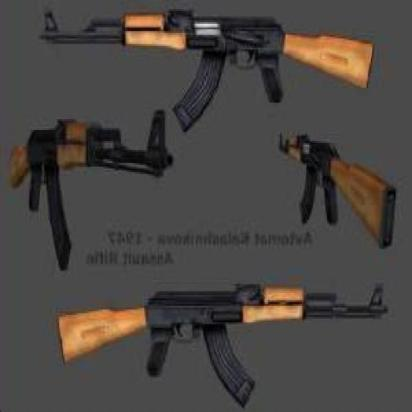Gun: (44, 278, 390, 412), (36, 0, 386, 126), (7, 115, 170, 266), (275, 127, 405, 261)
